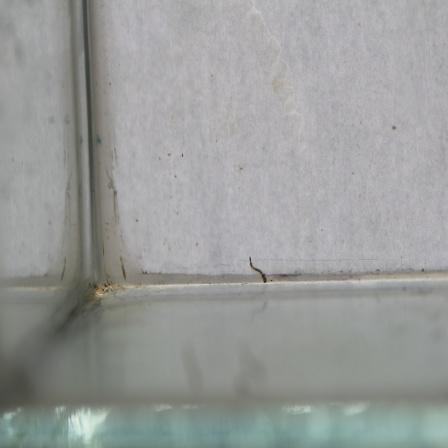Jentik-Nyamuk: (247, 252, 271, 287)
